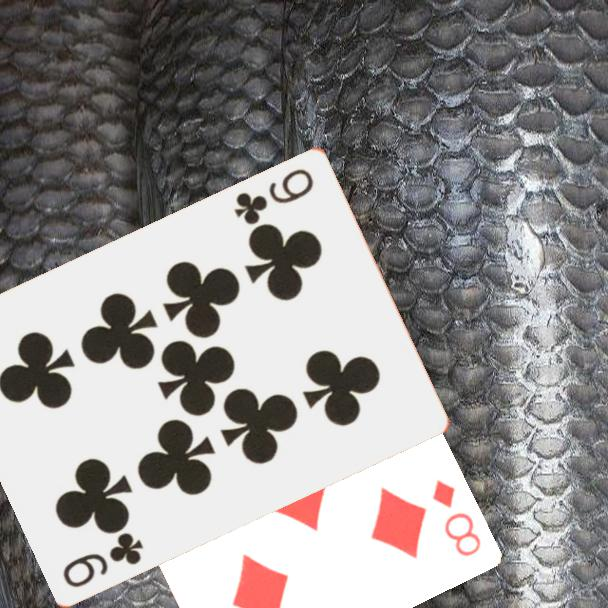c09: (59, 528, 147, 590), (231, 164, 317, 227)
d08: (428, 476, 483, 560)
